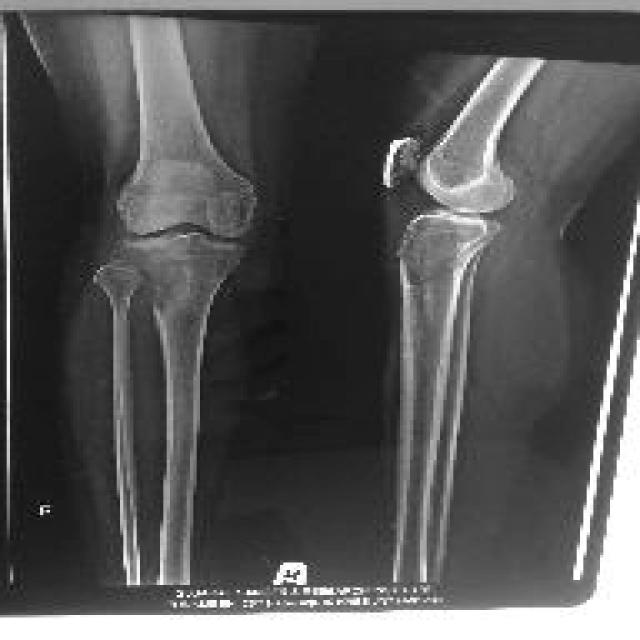bone-cancer: (116, 243, 189, 312), (402, 217, 460, 290)
